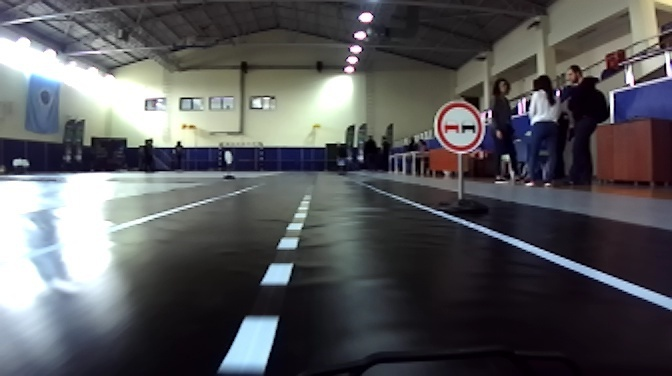sollama_yasak: (433, 100, 484, 154)
